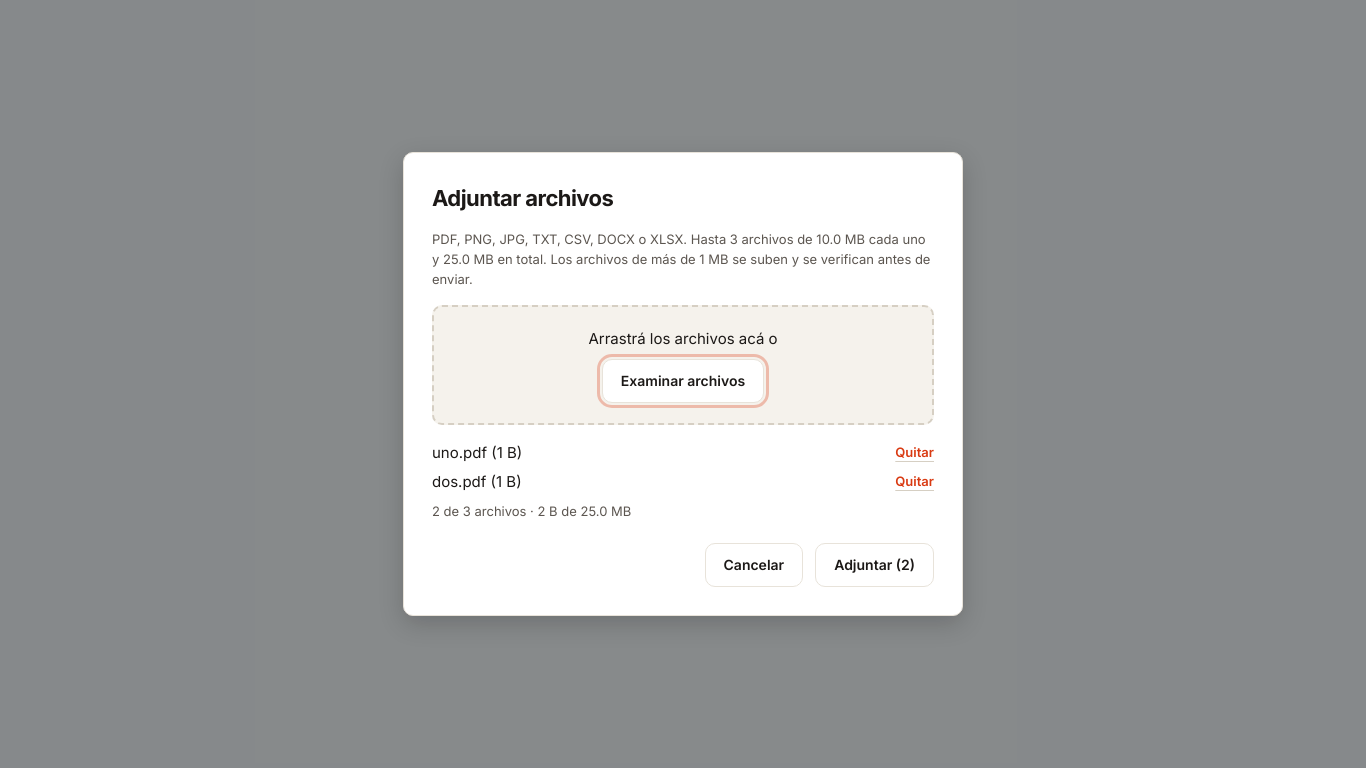
Test case: AttachmentDialog › quita un archivo de la selección
Click the button with aria-label "Quitar uno.pdf" at point(915, 452), box left=895, top=442, right=934, bottom=462
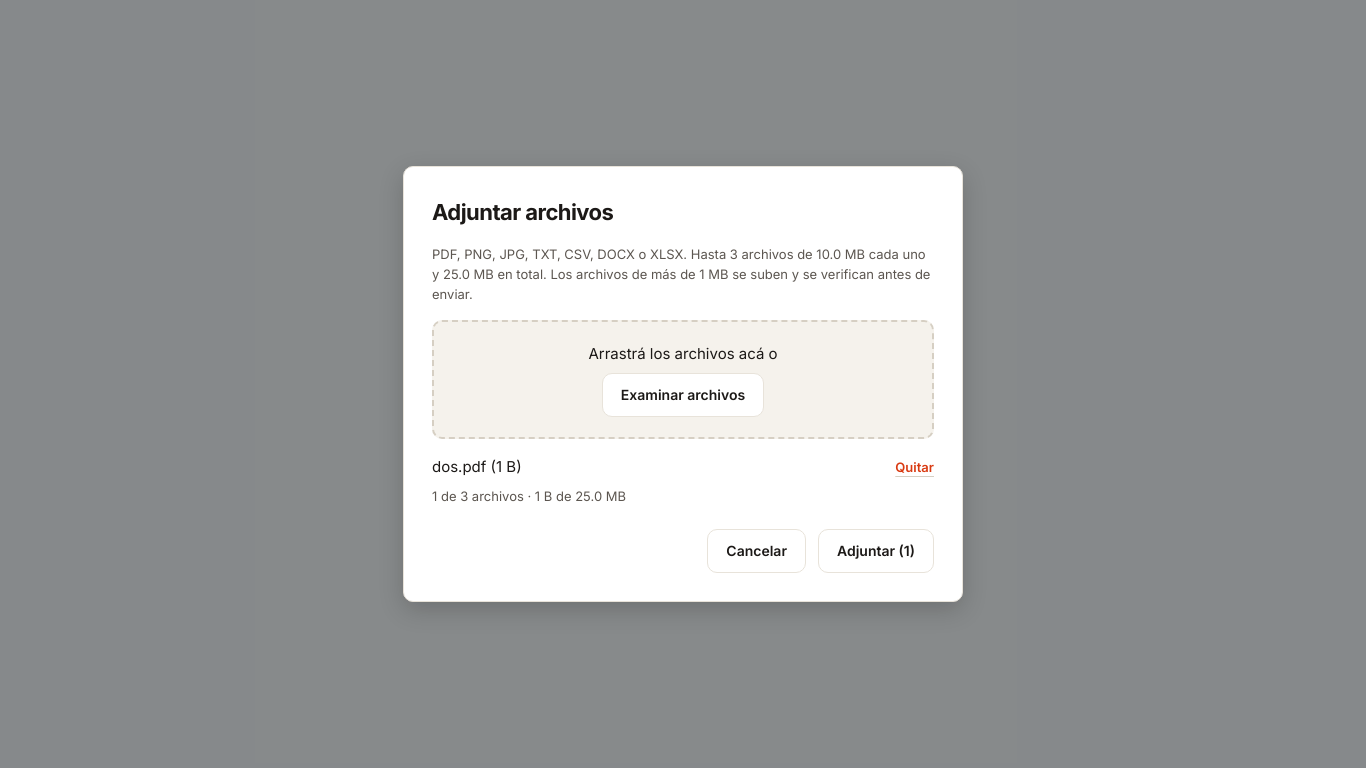
expect the text "uno.pdf" is gone: met
expect the button "Adjuntar (1)" is shown: met, box left=818, top=529, right=934, bottom=573
